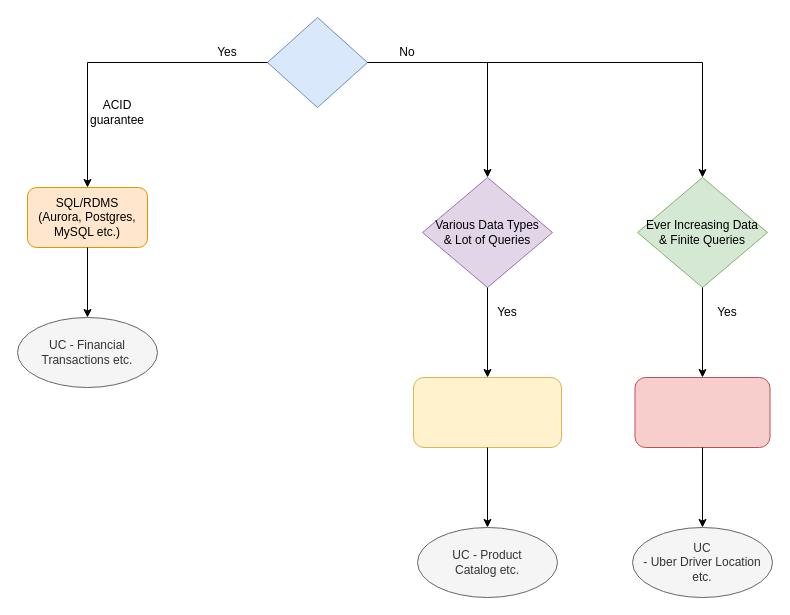
The diagram is 790 pixels wide and 615 high, and some of its shapes have lost their labels. The shapes that lost their labels are listed below. From the top down, each one's centre as x and y in pixels, then its label:
At (x=317, y=62): "Structured Data".
At (x=487, y=412): "Document DB (MongoDB, CouchBase, ElasticSearch, DynamoDB )".
At (x=702, y=412): "Column-Wide DB (Casandra, HBase)".
